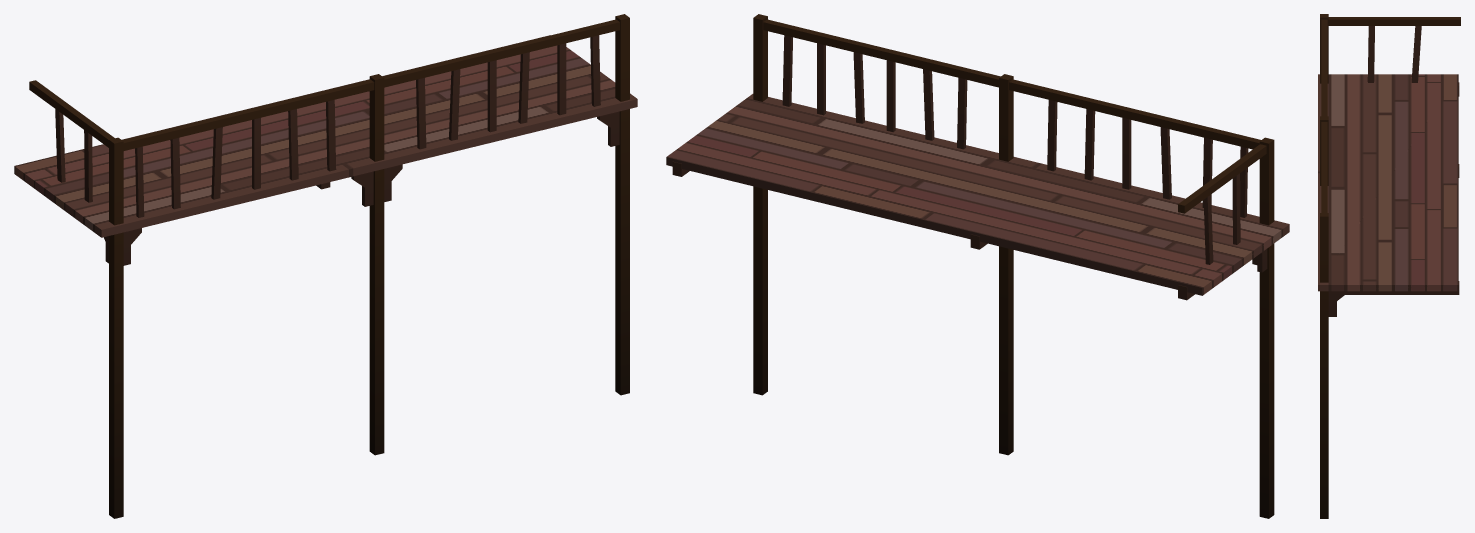
Rendered from Deck 7M v05.glb.
3 renders of one model, left to right at view 1: azimuth 30°, elevation 25°; view 2: azimuth 150°, elevation 25°; view 3: azimuth 270°, elevation 25°, orthographic. The views are drawn at different scales.
Visible parts, largest first — view 1: Deck 7M v05; view 2: Deck 7M v05; view 3: Deck 7M v05.
Boxes of the visible parts, x1=… form: Deck 7M v05: x1=14, y1=14, x2=637, y2=518; Deck 7M v05: x1=666, y1=14, x2=1289, y2=518; Deck 7M v05: x1=1318, y1=14, x2=1460, y2=518.
Size of what is drawn, in the model's own units: 7.09 by 4.74 by 2.03.
Materials: 2 (2 with a texture image).
